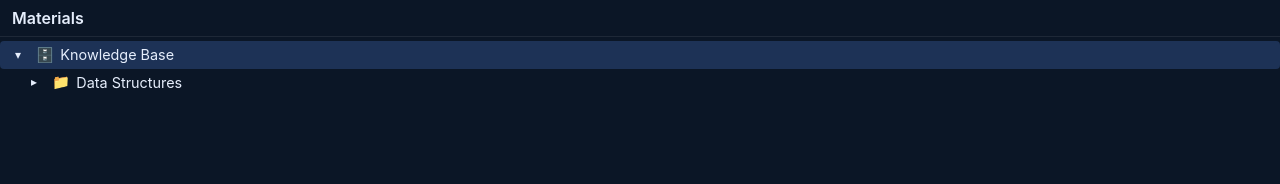
Test: MaterialsApp tree view › lists the files inside a folder once it is expanded, with status
Click the button with test id "folder-toggle-ds" at (34, 82), box [24, 72, 44, 92]
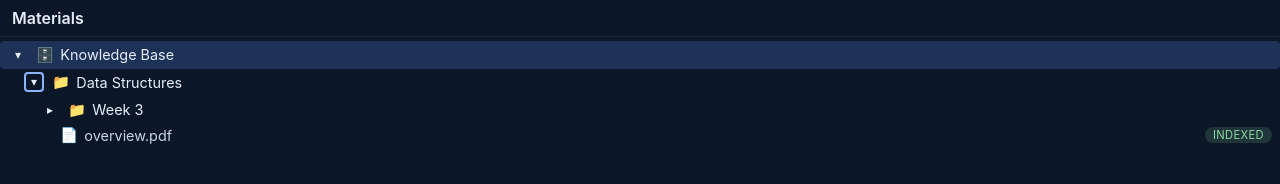
Click the button with test id "folder-toggle-w3" at (50, 110), box [40, 100, 60, 120]
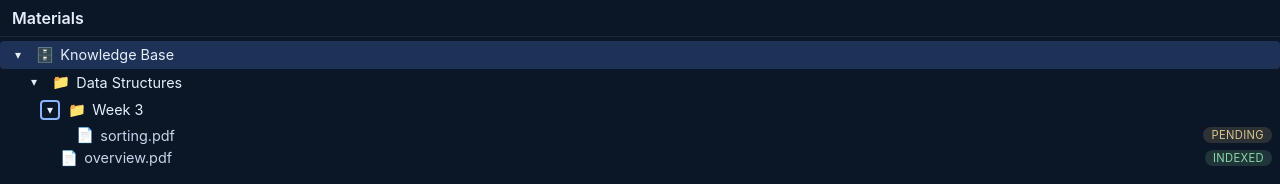
Expected: the text with test id "file-status-f-overview" reads "Indexed", [1213, 151, 1264, 165]
Expected: the text "sorting.pdf" is shown, [100, 127, 175, 144]
Expected: the text with test id "file-status-f-sorting" reads "Pending", [1212, 128, 1264, 142]
